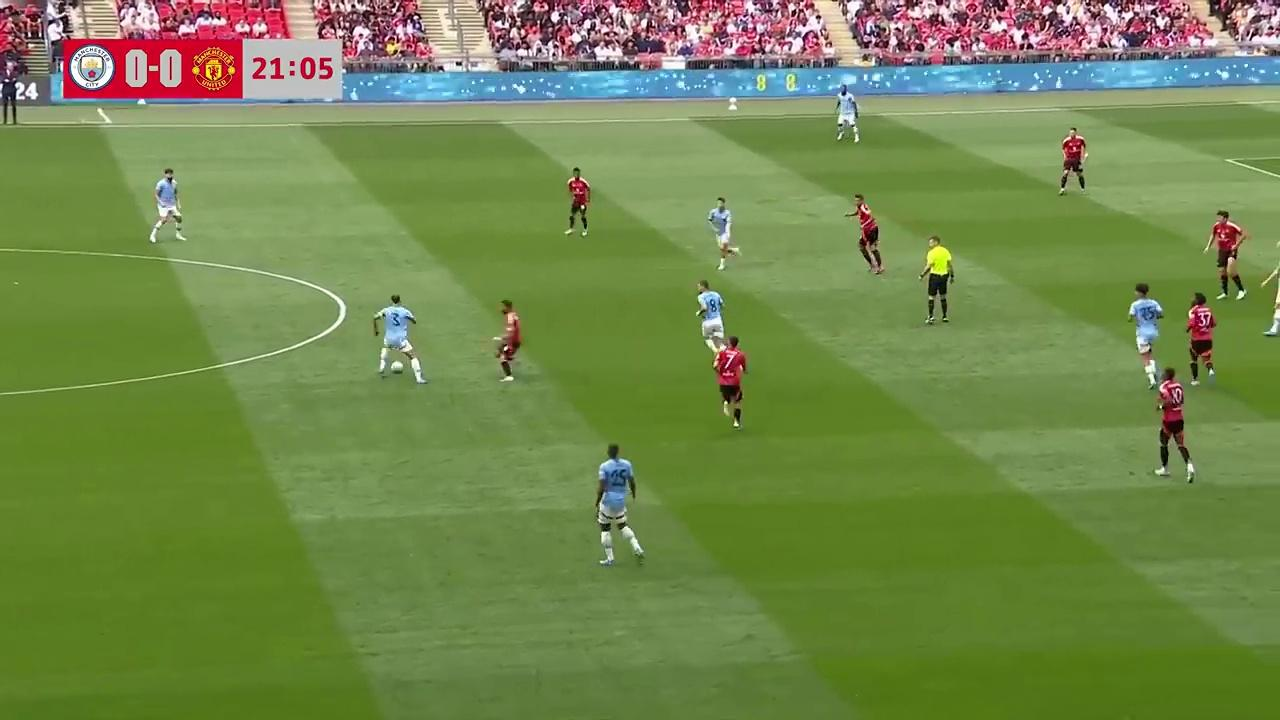ball: (392, 358, 403, 373)
player: (594, 444, 646, 566), (1153, 368, 1196, 482), (373, 294, 426, 383), (1203, 210, 1250, 300), (844, 193, 884, 276), (1127, 283, 1163, 374), (713, 335, 747, 429), (1184, 292, 1217, 387), (149, 168, 186, 242), (708, 196, 739, 270), (493, 300, 521, 381), (695, 279, 725, 351), (564, 167, 591, 238), (1058, 129, 1087, 195), (1264, 226, 1280, 341), (835, 88, 860, 142)
referee: (919, 235, 954, 324)
